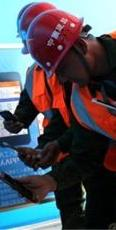gloves: (0, 110, 25, 134)
hard-hat: (26, 9, 84, 77)
vest: (21, 63, 69, 144)
